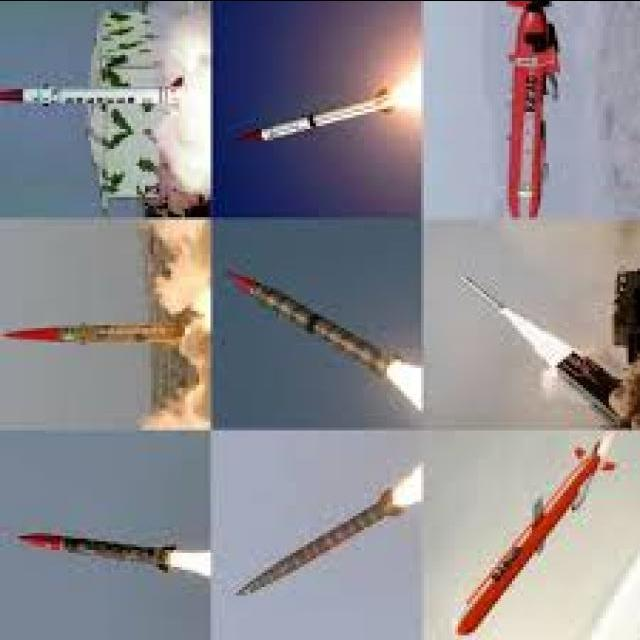Missile: (438, 442, 614, 638), (215, 263, 400, 380), (221, 490, 406, 604), (233, 90, 396, 149), (4, 524, 173, 572), (5, 318, 183, 346), (0, 83, 156, 109), (459, 268, 507, 311)
